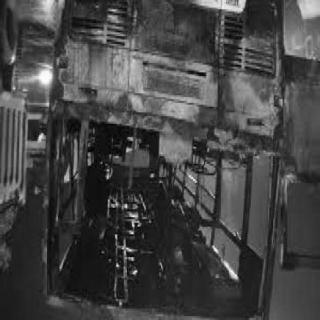other: (36, 62, 62, 94)
